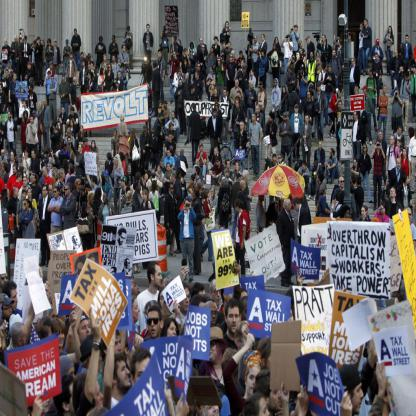face: (88, 380, 105, 414), (136, 365, 153, 393), (117, 362, 132, 388), (248, 370, 262, 397), (270, 382, 282, 411), (353, 383, 364, 414), (70, 384, 80, 414), (229, 309, 241, 333), (149, 315, 161, 339), (110, 337, 122, 361), (242, 329, 253, 355), (208, 337, 219, 360), (80, 321, 92, 342), (243, 301, 253, 324), (206, 400, 220, 416), (212, 284, 222, 306), (180, 290, 190, 312), (267, 351, 277, 372), (207, 308, 218, 327), (132, 279, 142, 298), (226, 281, 235, 302), (154, 267, 163, 288), (10, 291, 19, 312), (168, 327, 178, 345), (161, 295, 171, 313), (259, 400, 270, 416), (286, 309, 294, 331), (56, 330, 65, 349), (69, 368, 77, 389), (133, 301, 141, 321), (23, 331, 30, 352), (4, 305, 13, 321), (57, 243, 67, 257), (1, 273, 9, 290), (146, 309, 153, 326), (48, 291, 55, 305), (121, 233, 127, 246), (73, 237, 79, 249), (236, 205, 240, 214), (288, 202, 292, 211), (347, 211, 351, 220), (362, 210, 366, 219), (195, 184, 199, 193), (294, 205, 299, 212), (391, 191, 396, 198), (50, 188, 54, 196), (54, 190, 58, 198), (65, 187, 69, 195), (104, 195, 108, 203), (138, 184, 142, 192), (186, 202, 190, 210), (273, 158, 277, 166), (341, 179, 345, 187), (261, 193, 265, 201), (111, 270, 115, 277), (28, 191, 32, 198), (81, 191, 85, 198), (167, 165, 171, 172), (381, 207, 385, 214), (391, 138, 395, 145), (131, 188, 134, 197), (398, 161, 401, 170), (128, 261, 131, 269), (23, 194, 27, 200), (24, 179, 27, 187), (25, 202, 28, 210), (43, 189, 46, 197), (64, 172, 67, 180), (91, 196, 94, 204), (142, 176, 145, 184), (64, 144, 67, 152), (171, 186, 174, 194), (247, 173, 250, 181), (320, 143, 323, 151), (301, 72, 305, 78), (240, 175, 243, 183), (2, 165, 5, 172), (12, 154, 15, 161), (14, 168, 17, 175), (20, 176, 23, 183), (17, 191, 20, 198), (32, 177, 35, 184), (33, 152, 36, 159), (43, 170, 46, 177), (48, 165, 51, 172), (79, 182, 82, 189), (70, 166, 73, 173), (79, 146, 82, 153), (121, 180, 124, 187), (143, 193, 146, 200), (115, 160, 118, 167), (153, 184, 156, 191), (171, 176, 174, 183), (236, 163, 239, 170), (279, 156, 282, 163), (330, 151, 333, 158), (355, 161, 358, 168), (364, 146, 367, 153), (343, 167, 346, 174), (380, 133, 383, 140), (400, 129, 403, 136), (407, 177, 410, 184), (408, 70, 411, 77), (396, 91, 399, 98), (355, 114, 358, 121), (370, 73, 373, 80), (406, 37, 409, 44), (339, 103, 342, 110), (338, 40, 341, 47), (236, 81, 239, 88), (224, 90, 227, 97), (285, 116, 288, 123), (270, 116, 273, 123), (180, 70, 183, 77), (174, 53, 177, 60), (170, 135, 173, 142), (31, 118, 34, 125), (61, 135, 64, 142), (70, 132, 73, 139), (295, 107, 299, 112), (71, 154, 75, 159), (2, 152, 5, 158), (212, 191, 215, 197), (215, 150, 218, 156), (228, 162, 231, 168), (244, 183, 247, 189), (304, 165, 307, 171), (378, 143, 381, 149), (404, 150, 407, 156), (398, 142, 401, 148), (413, 67, 416, 73), (401, 68, 404, 74), (377, 41, 380, 47), (329, 68, 332, 74), (333, 52, 336, 58), (308, 94, 311, 100), (284, 88, 287, 94), (301, 42, 304, 48), (311, 86, 314, 92), (275, 81, 278, 87), (236, 102, 239, 108), (244, 68, 247, 74), (229, 43, 232, 49), (253, 116, 256, 122), (198, 66, 201, 72), (201, 39, 204, 45), (173, 113, 176, 119), (119, 73, 122, 79), (72, 110, 75, 116), (63, 78, 66, 84), (55, 41, 58, 47), (69, 139, 72, 145), (166, 137, 169, 143), (297, 54, 300, 60), (26, 153, 29, 158), (93, 143, 96, 148), (108, 155, 111, 160), (158, 168, 161, 173), (168, 152, 171, 157), (182, 152, 185, 157), (208, 193, 211, 198), (217, 160, 220, 165), (271, 156, 274, 161), (407, 76, 410, 81), (384, 88, 387, 93), (356, 91, 359, 96), (376, 56, 379, 61), (395, 52, 398, 57), (348, 36, 351, 41), (323, 37, 326, 42), (318, 86, 321, 91), (262, 37, 265, 42), (255, 37, 258, 42), (251, 72, 254, 77), (256, 109, 259, 114), (238, 95, 241, 100), (242, 63, 245, 68), (231, 56, 234, 61), (224, 44, 227, 49), (306, 117, 309, 122), (241, 125, 244, 130), (216, 105, 219, 110), (214, 112, 217, 117), (215, 90, 218, 95), (219, 61, 222, 66), (210, 69, 213, 74), (193, 89, 196, 94), (180, 82, 183, 87), (202, 48, 205, 53), (175, 37, 178, 42), (159, 53, 162, 58), (165, 103, 168, 108), (160, 103, 163, 108), (123, 48, 126, 53), (122, 69, 125, 74), (171, 126, 174, 131), (145, 129, 148, 134), (114, 131, 117, 136), (148, 91, 151, 96), (109, 66, 112, 71), (113, 58, 116, 63), (105, 56, 108, 61), (91, 65, 94, 70), (75, 79, 78, 84), (113, 38, 116, 43), (97, 69, 100, 74), (87, 89, 90, 94), (63, 109, 66, 114), (44, 101, 47, 106), (52, 78, 55, 83), (51, 64, 54, 69), (49, 41, 52, 46), (42, 43, 45, 48), (34, 43, 37, 48), (28, 65, 31, 70), (40, 104, 43, 109), (33, 114, 36, 119), (71, 122, 74, 127), (54, 126, 57, 131), (25, 39, 28, 44), (21, 41, 24, 46), (8, 63, 11, 68), (15, 38, 18, 43), (26, 75, 29, 80), (15, 75, 18, 80), (85, 141, 88, 146), (106, 67, 109, 72), (201, 147, 204, 152), (365, 89, 368, 94), (288, 36, 291, 41), (92, 179, 94, 186), (325, 187, 327, 194), (318, 176, 320, 183), (52, 170, 54, 176), (195, 169, 197, 175), (365, 21, 367, 27), (317, 60, 320, 64), (300, 51, 303, 55), (326, 65, 328, 71), (240, 55, 243, 59), (252, 84, 254, 90), (226, 23, 229, 27), (196, 73, 198, 79), (128, 30, 131, 34), (83, 61, 85, 67), (71, 55, 74, 59), (38, 40, 41, 44), (25, 168, 27, 174), (5, 41, 8, 45), (7, 72, 9, 78), (1, 85, 3, 91), (9, 114, 11, 120), (58, 118, 60, 124), (89, 58, 92, 62), (192, 179, 194, 184), (201, 162, 203, 167), (405, 127, 407, 132), (389, 29, 391, 34), (361, 25, 363, 30), (352, 60, 354, 65), (311, 54, 313, 59), (307, 40, 309, 45), (277, 39, 279, 44), (274, 46, 276, 51), (262, 52, 264, 57), (228, 102, 230, 107), (186, 75, 188, 80), (211, 51, 213, 56), (215, 40, 217, 45), (192, 44, 194, 49), (186, 51, 188, 56), (179, 42, 181, 47), (165, 27, 167, 32), (148, 27, 150, 32), (89, 74, 91, 79), (75, 31, 77, 36), (101, 39, 103, 44), (67, 43, 69, 48), (49, 74, 51, 79), (24, 102, 26, 107), (81, 128, 83, 133), (26, 114, 28, 119), (31, 89, 33, 94), (293, 57, 295, 62), (165, 147, 167, 152), (295, 27, 297, 31), (261, 85, 263, 89), (82, 54, 84, 58), (1, 117, 2, 122)
